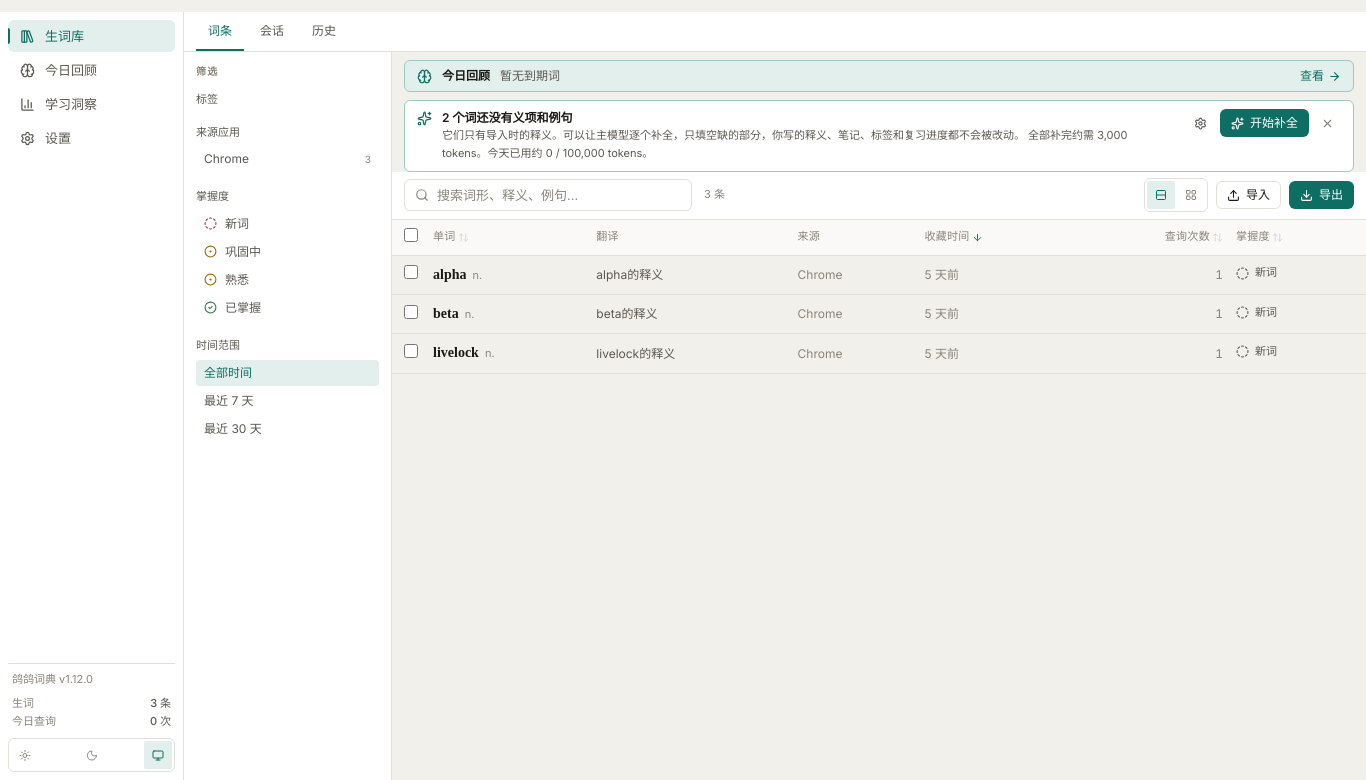
a search that finds nothing › offers to put the search away, which brings the words back
Expected: the checkbox named "选择 alpha" is shown, [404, 265, 418, 279]
Type "zzz" into the search field at x=559, y=195, box [437, 185, 681, 205]
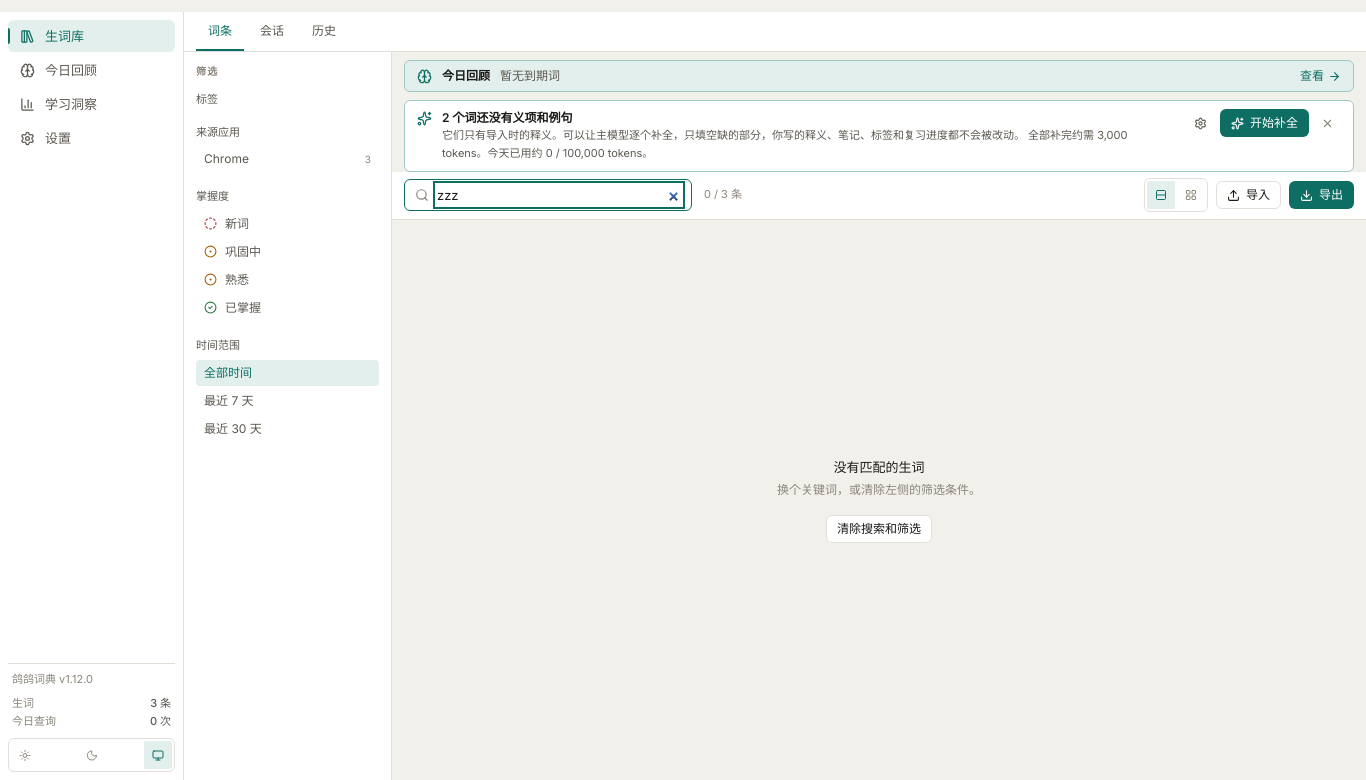
Expected: the text "没有匹配的生词" is shown, [834, 457, 924, 477]
Click the button "清除搜索和筛选" at x=879, y=529, box [826, 515, 932, 543]
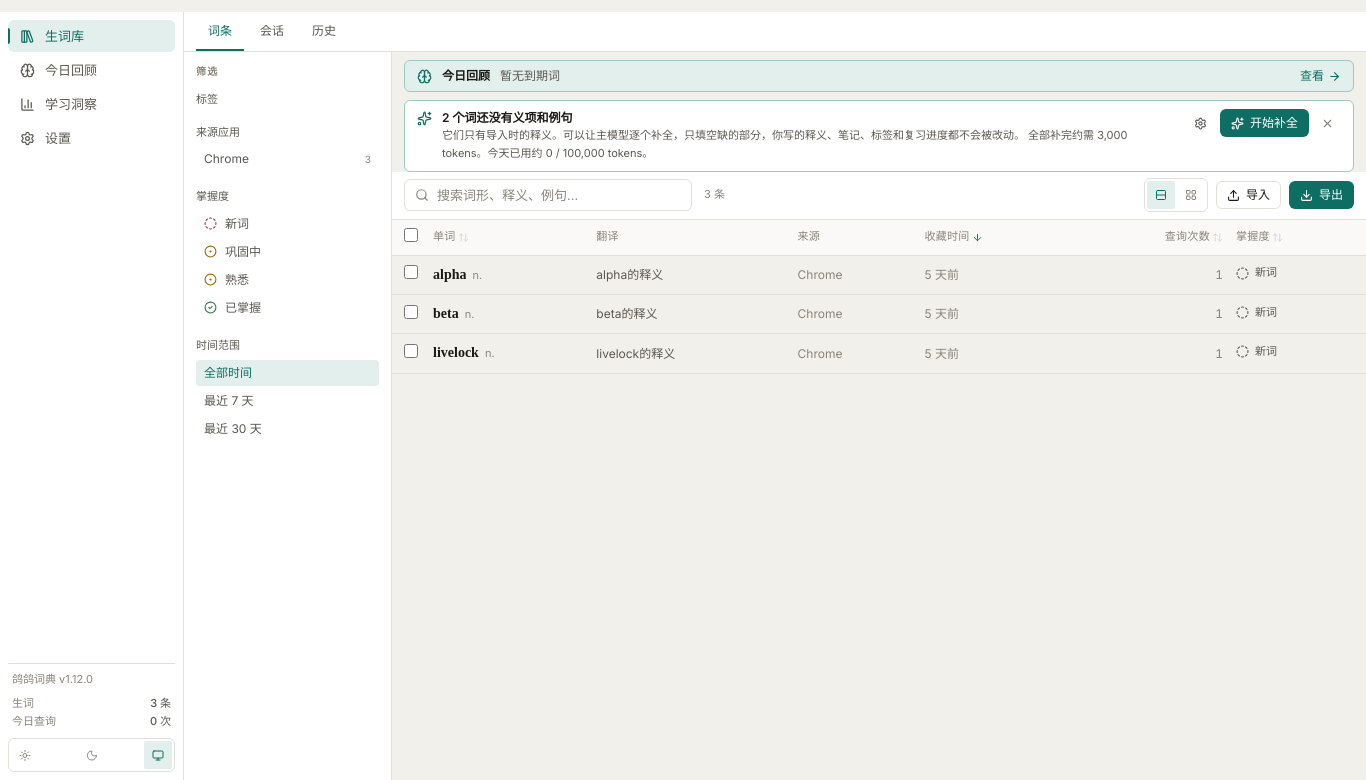
Expected: the text "3 条" below "今天已用约 0 / 100,000 tokens" is shown, [704, 187, 725, 201]
Expected: the checkbox named "选择 alpha" is shown, [404, 265, 418, 279]
Expected: the search field is empty, [437, 185, 681, 205]
